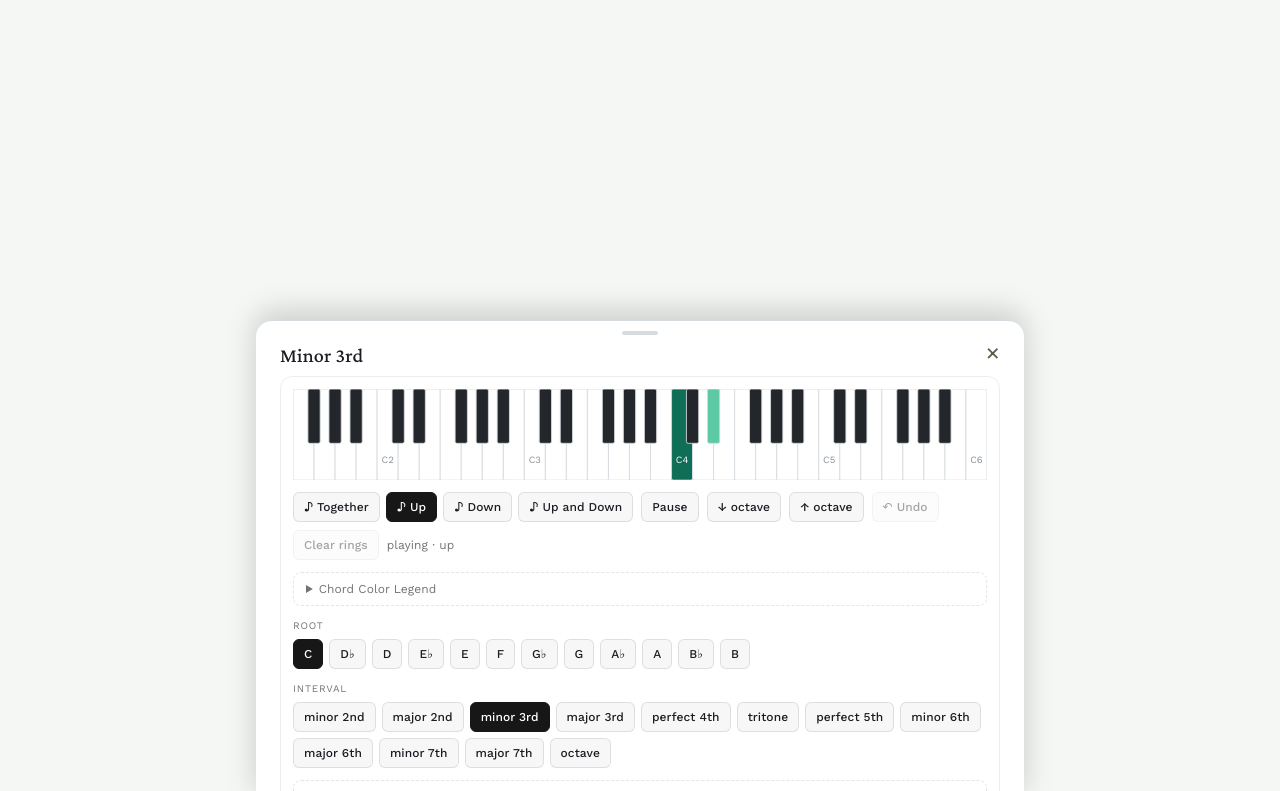
Test: the card's own rows (spec §4) › an interval card has Root and Interval, named as the reader names two notes
Click the button "major 3rd" at (595, 717), box [556,702,635,732]
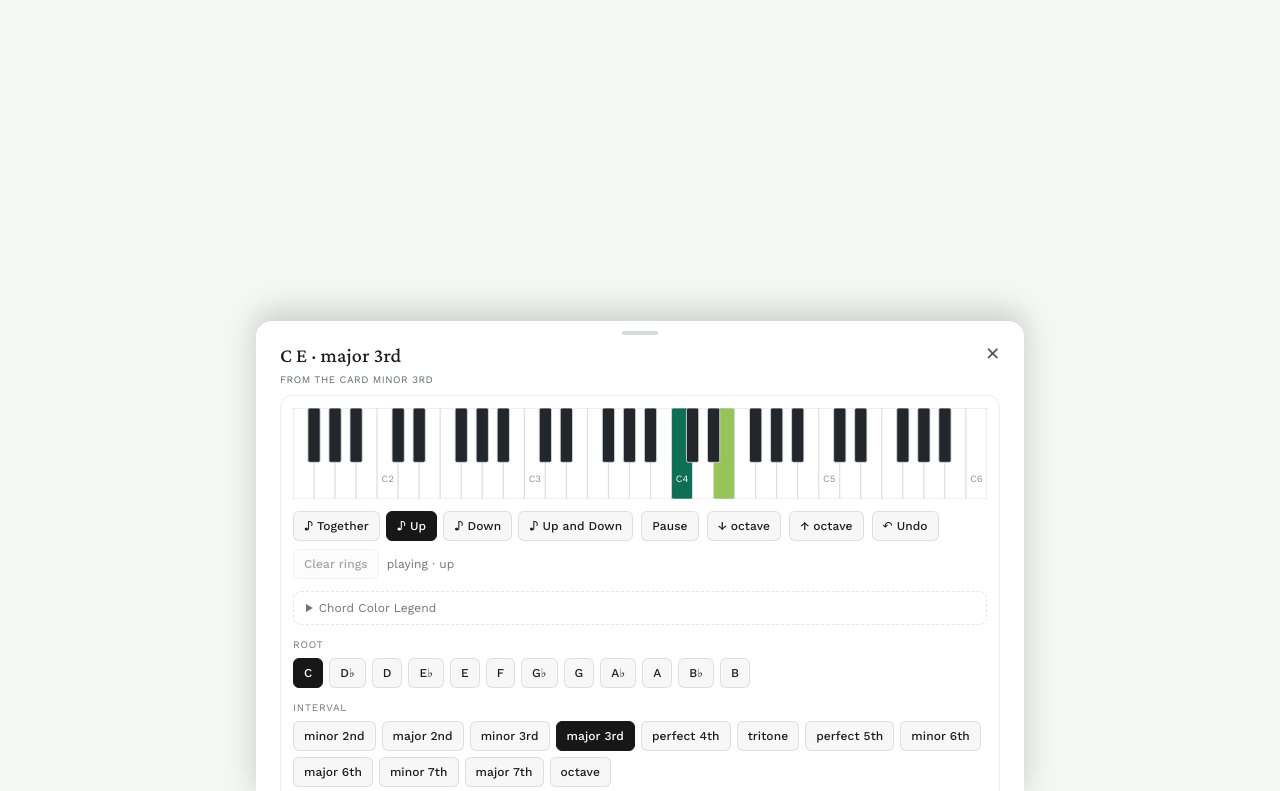
Expected: the heading "C E · major 3rd" is shown, [280,344,401,366]
